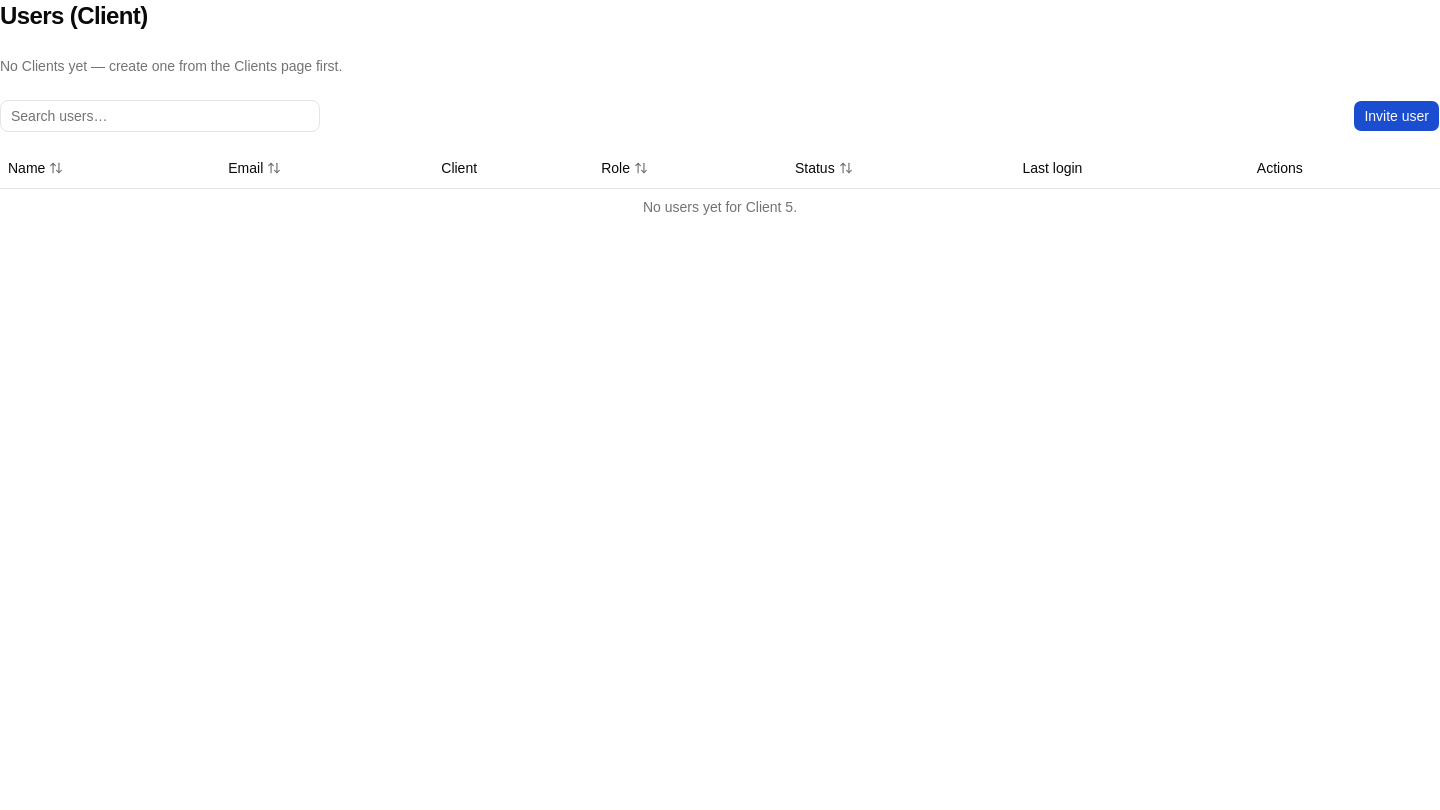
Test: ClientUsersPage › AC: row actions (Disable/Enable, Remove) work correctly
Click the button "Invite user": click(1397, 116) x1=1353 y1=100 x2=1439 y2=132
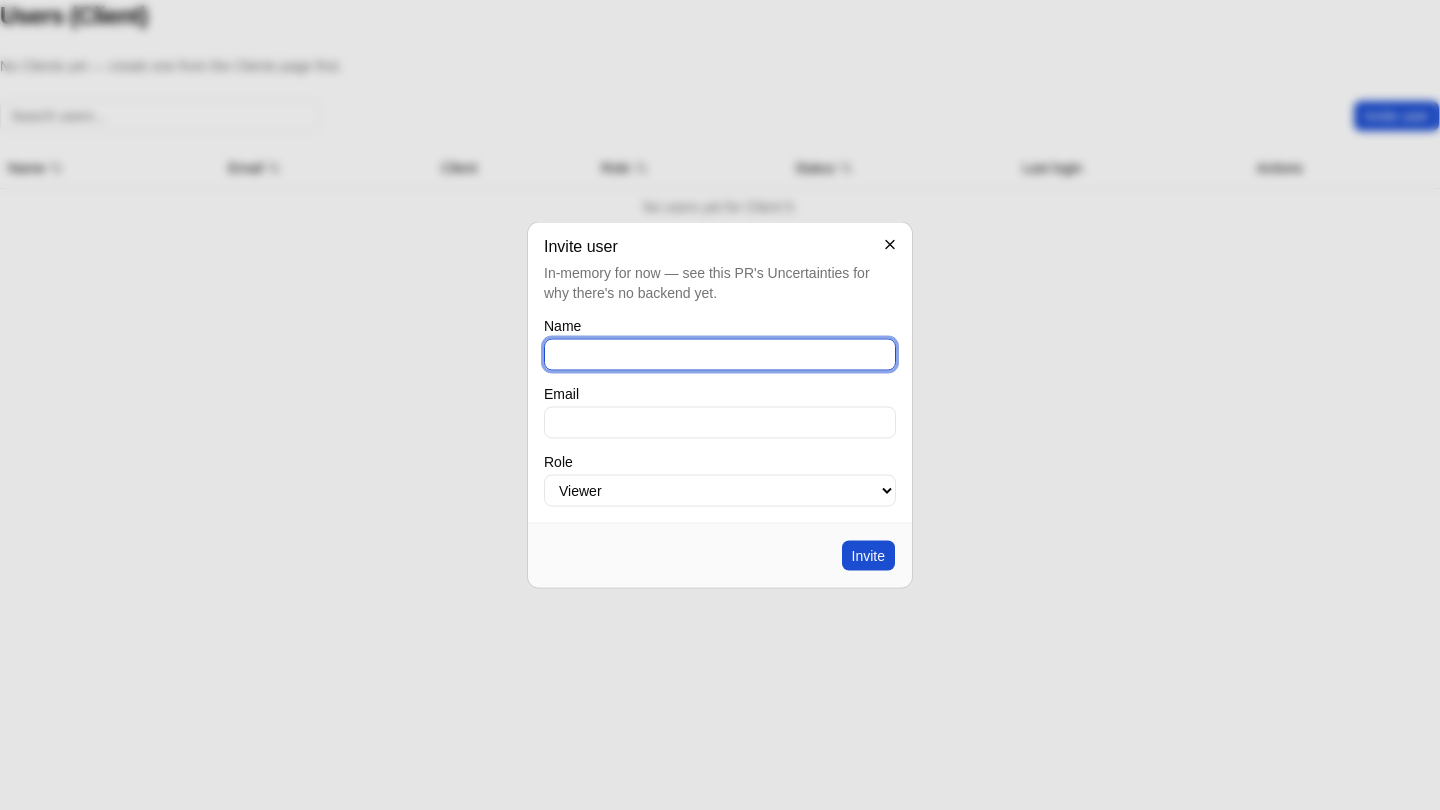
In the field labelled "Name": (720, 354) x1=544 y1=338 x2=896 y2=370, type "Dana Admin"
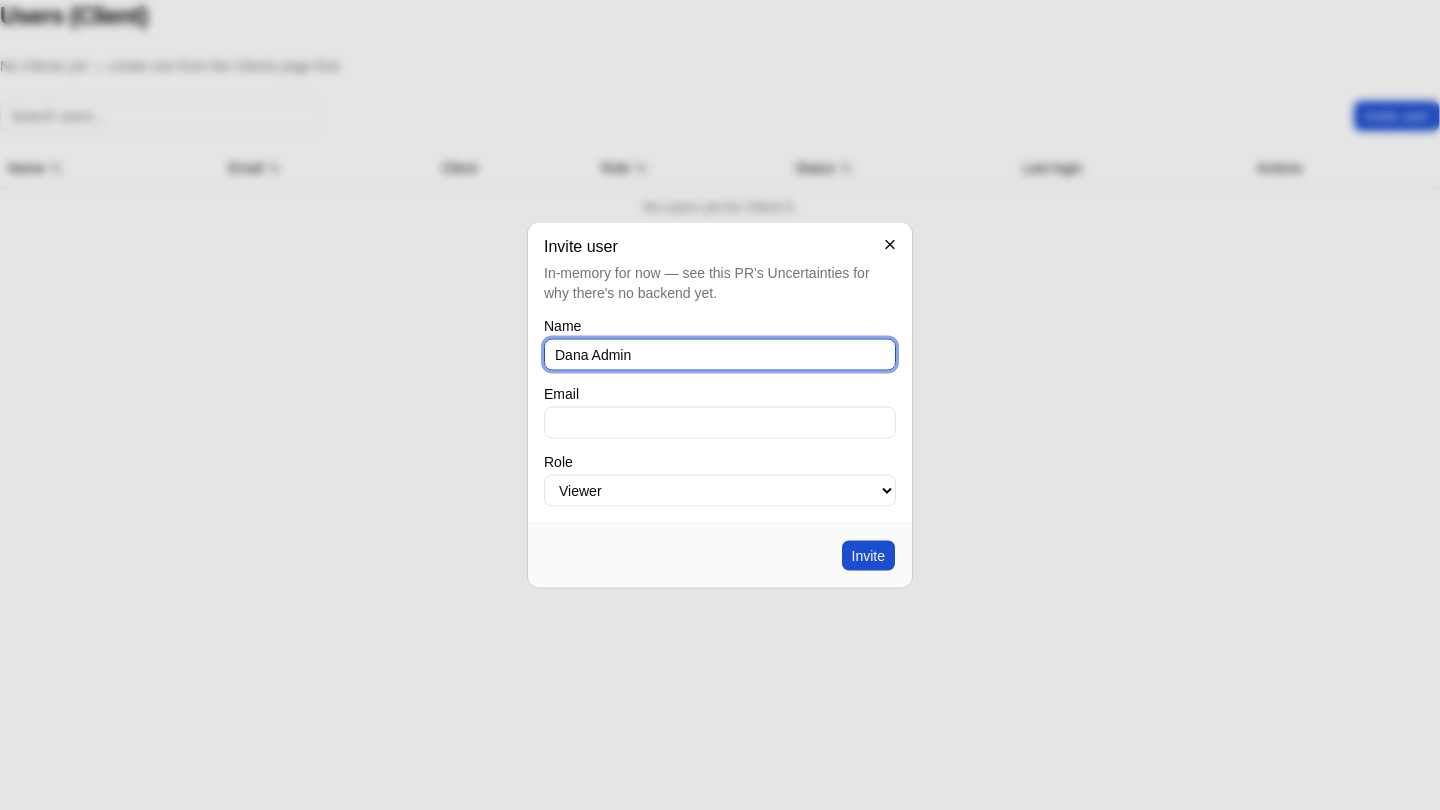
In the field labelled "Email": (720, 422) x1=544 y1=406 x2=896 y2=438, type "dana@acme.test"
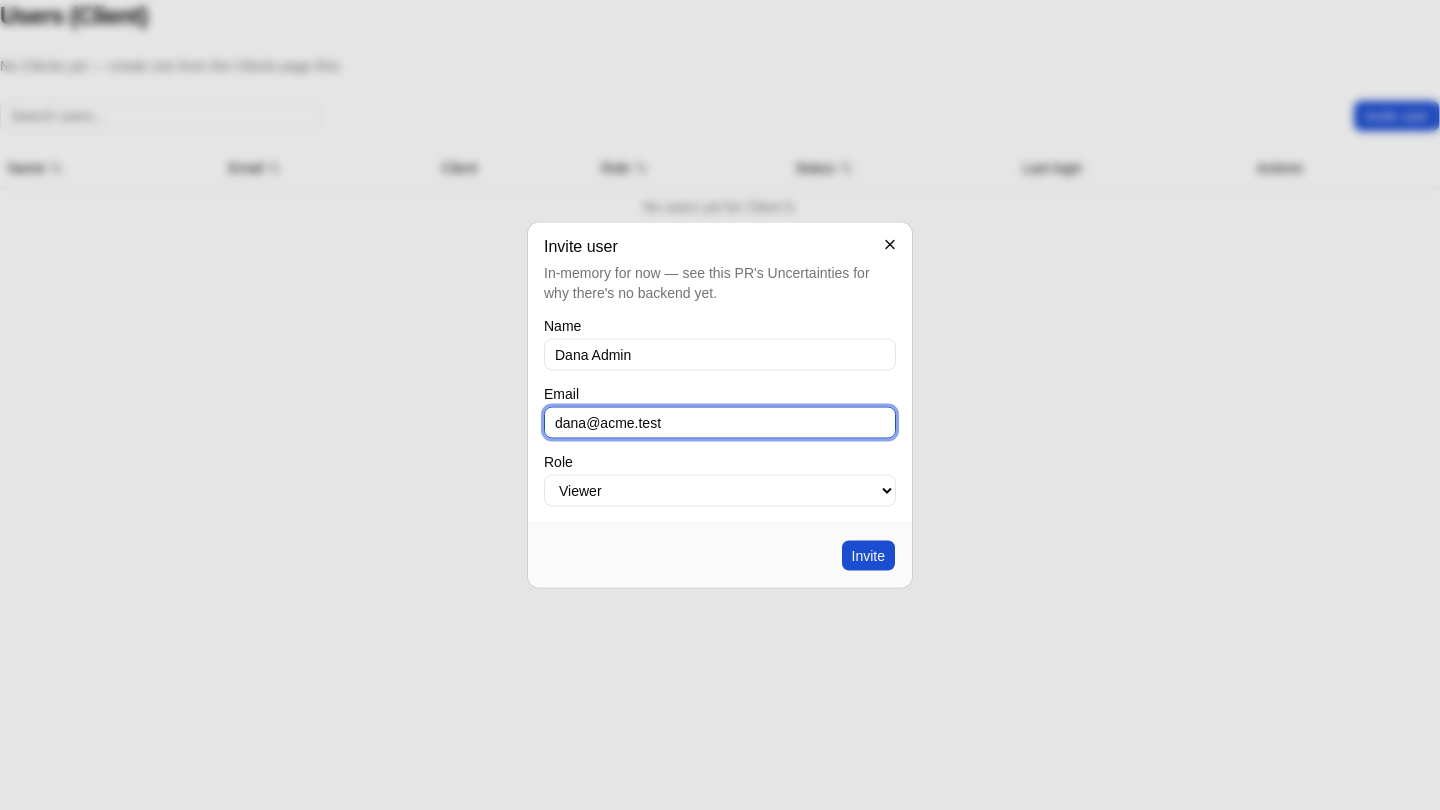
Click the button "Invite": click(868, 556) x1=840 y1=540 x2=896 y2=572
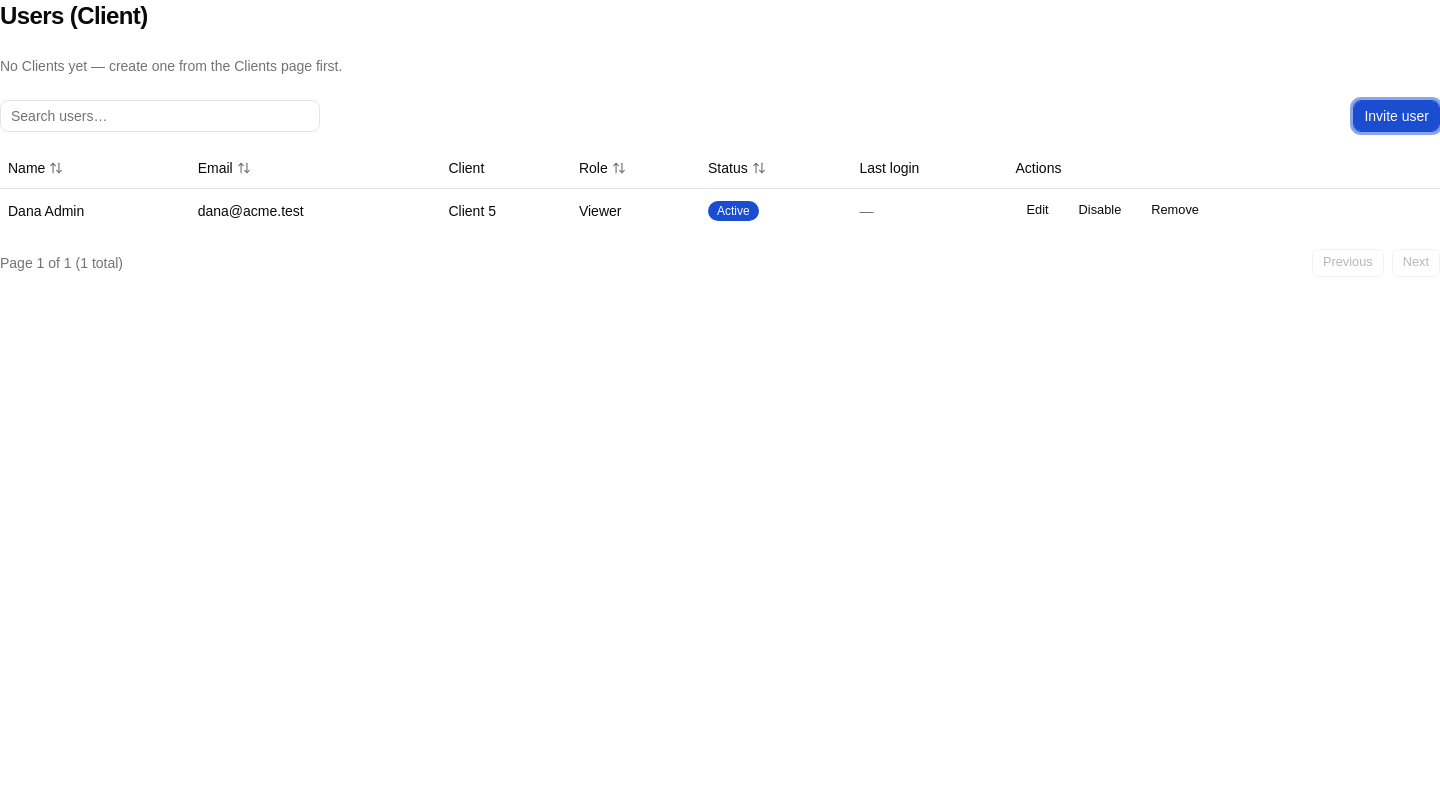
Click the button "Disable": click(1100, 210) x1=1068 y1=196 x2=1132 y2=224
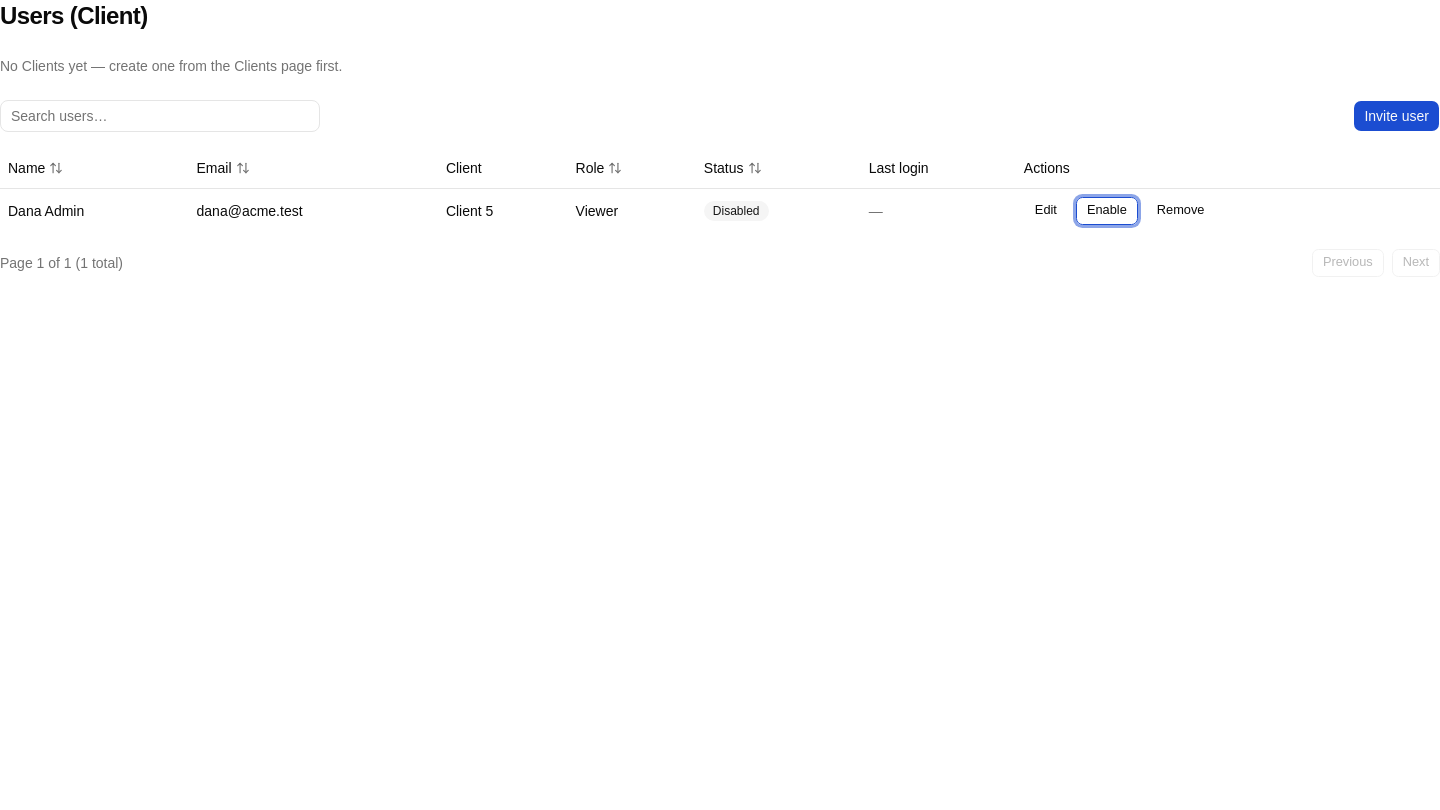
Check: the text "Disabled" is shown, box x1=704 y1=201 x2=768 y2=221
Click the button "Remove": click(1181, 210) x1=1146 y1=196 x2=1216 y2=224
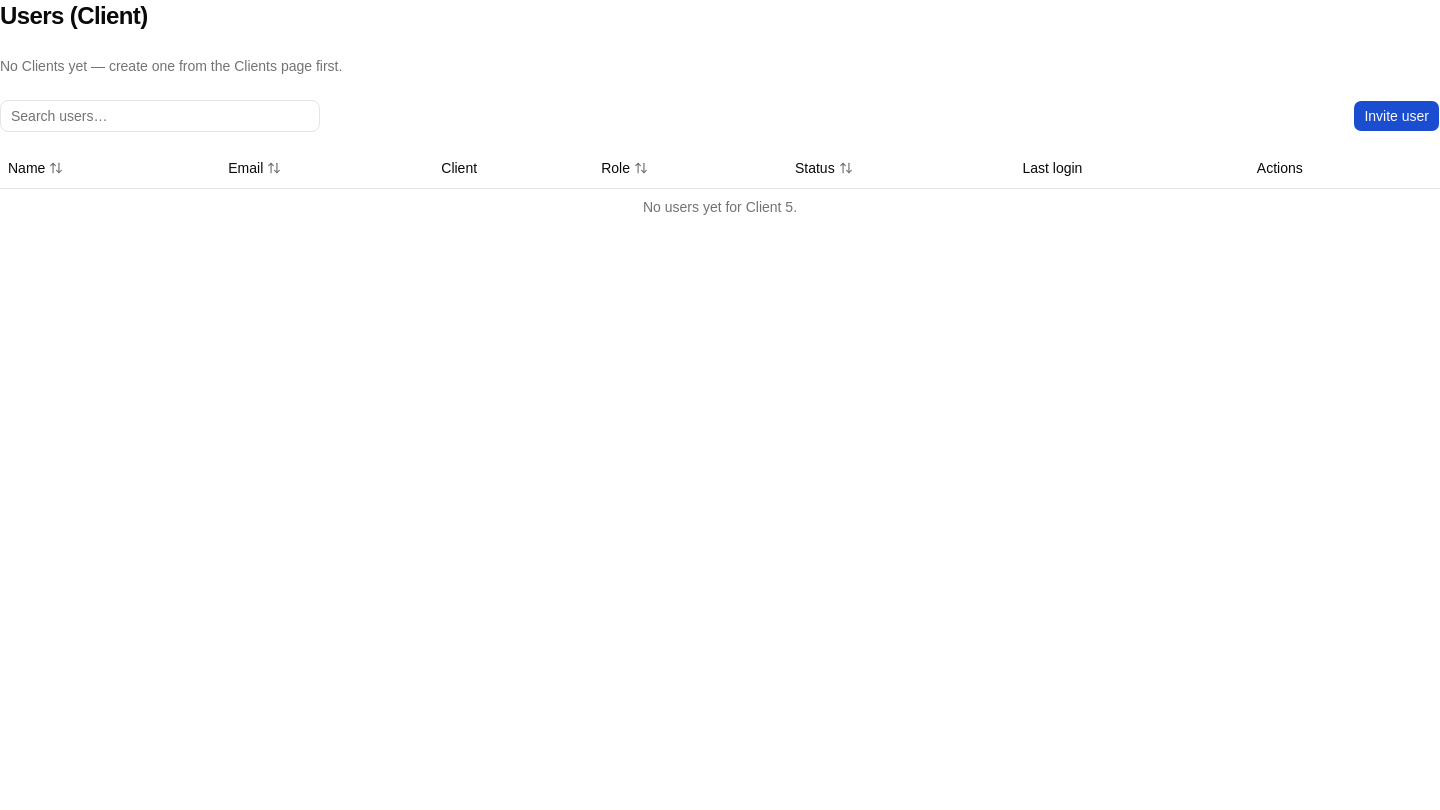
Check: the text "Dana Admin" is gone
